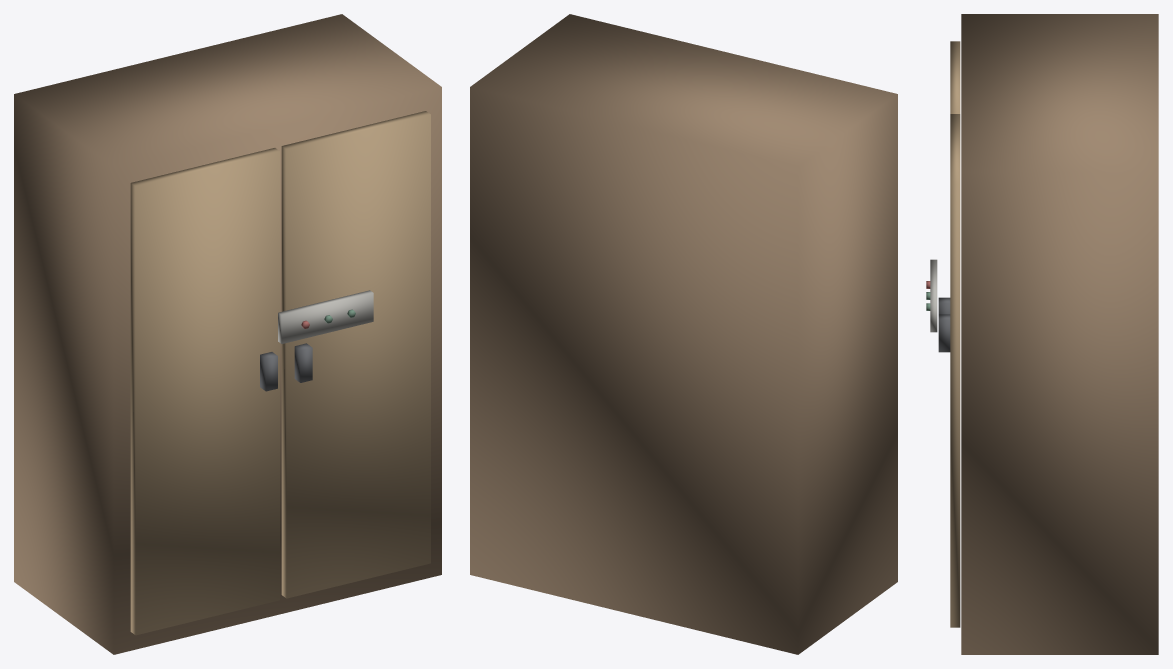
File: kitchen_wall_cabinet.glb
3 views of the same model, side by side, from view 1: azimuth 30°, elevation 25°; view 2: azimuth 150°, elevation 25°; view 3: azimuth 270°, elevation 25° (orthographic).
Visible parts, largest first — view 1: world; view 2: world; view 3: world.
Boxes of the visible parts, x1,y1,x2,y2 form: world: (14, 14, 441, 654); world: (470, 14, 897, 654); world: (926, 14, 1158, 654).
Bounding box in the file's own units: 0.95 × 1.35 × 0.5885.
